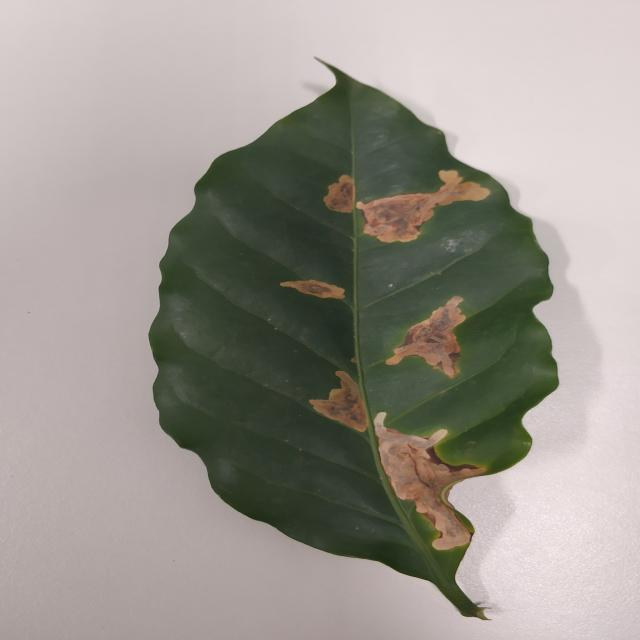Plaga-Minador: (148, 64, 561, 620)
